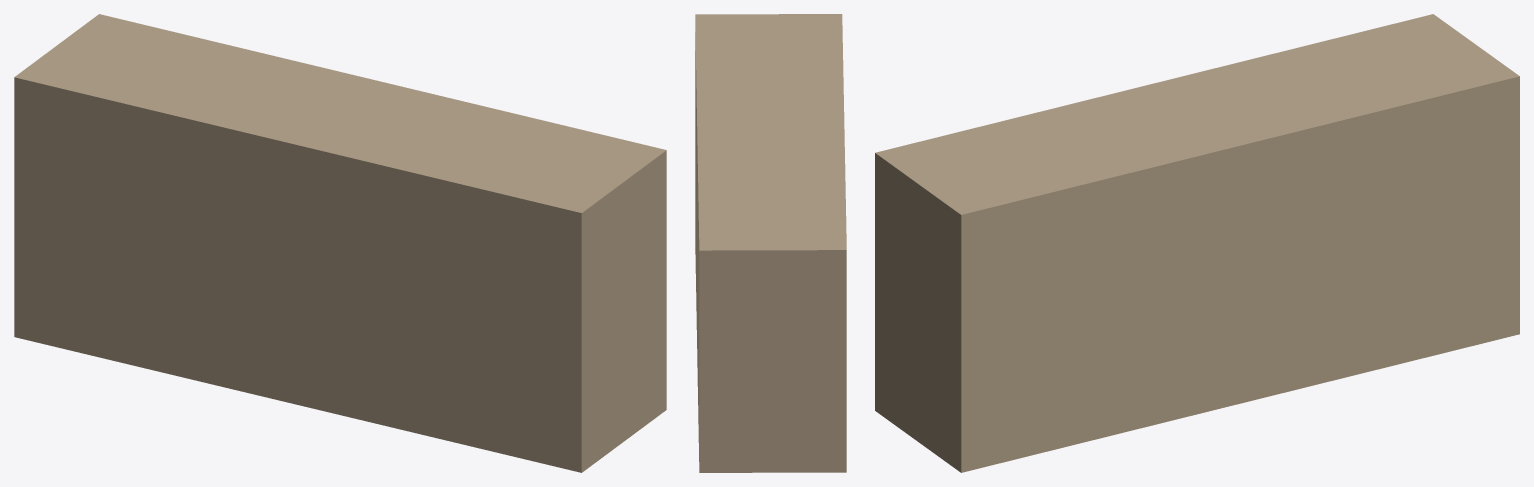
Rendered from bld_108401229.dae.
The picture shows the model from 3 angles, left to right: view 1: azimuth 30°, elevation 25°; view 2: azimuth 150°, elevation 25°; view 3: azimuth 270°, elevation 25°; orthographic projection. The views are drawn at different scales.
Parts seen in each view (by area): view 1: bld_108401229; view 2: bld_108401229; view 3: bld_108401229.
Part boxes in pixels (x1,y1,x2,y2): bld_108401229: (14, 14, 666, 472); bld_108401229: (695, 14, 846, 472); bld_108401229: (875, 14, 1519, 472).
Size of the model in its own units: 13.37 by 18.13 by 8.
